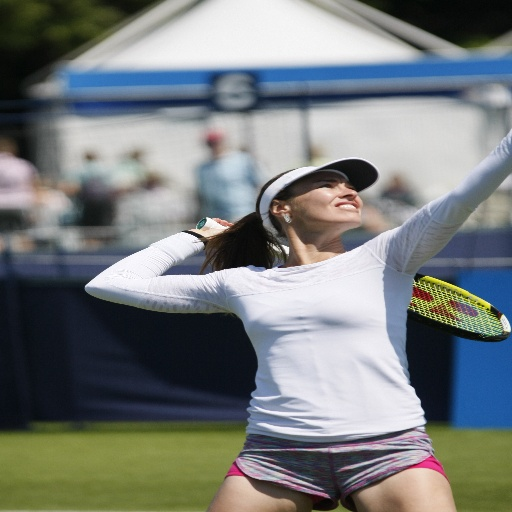hand: (186, 213, 236, 247)
